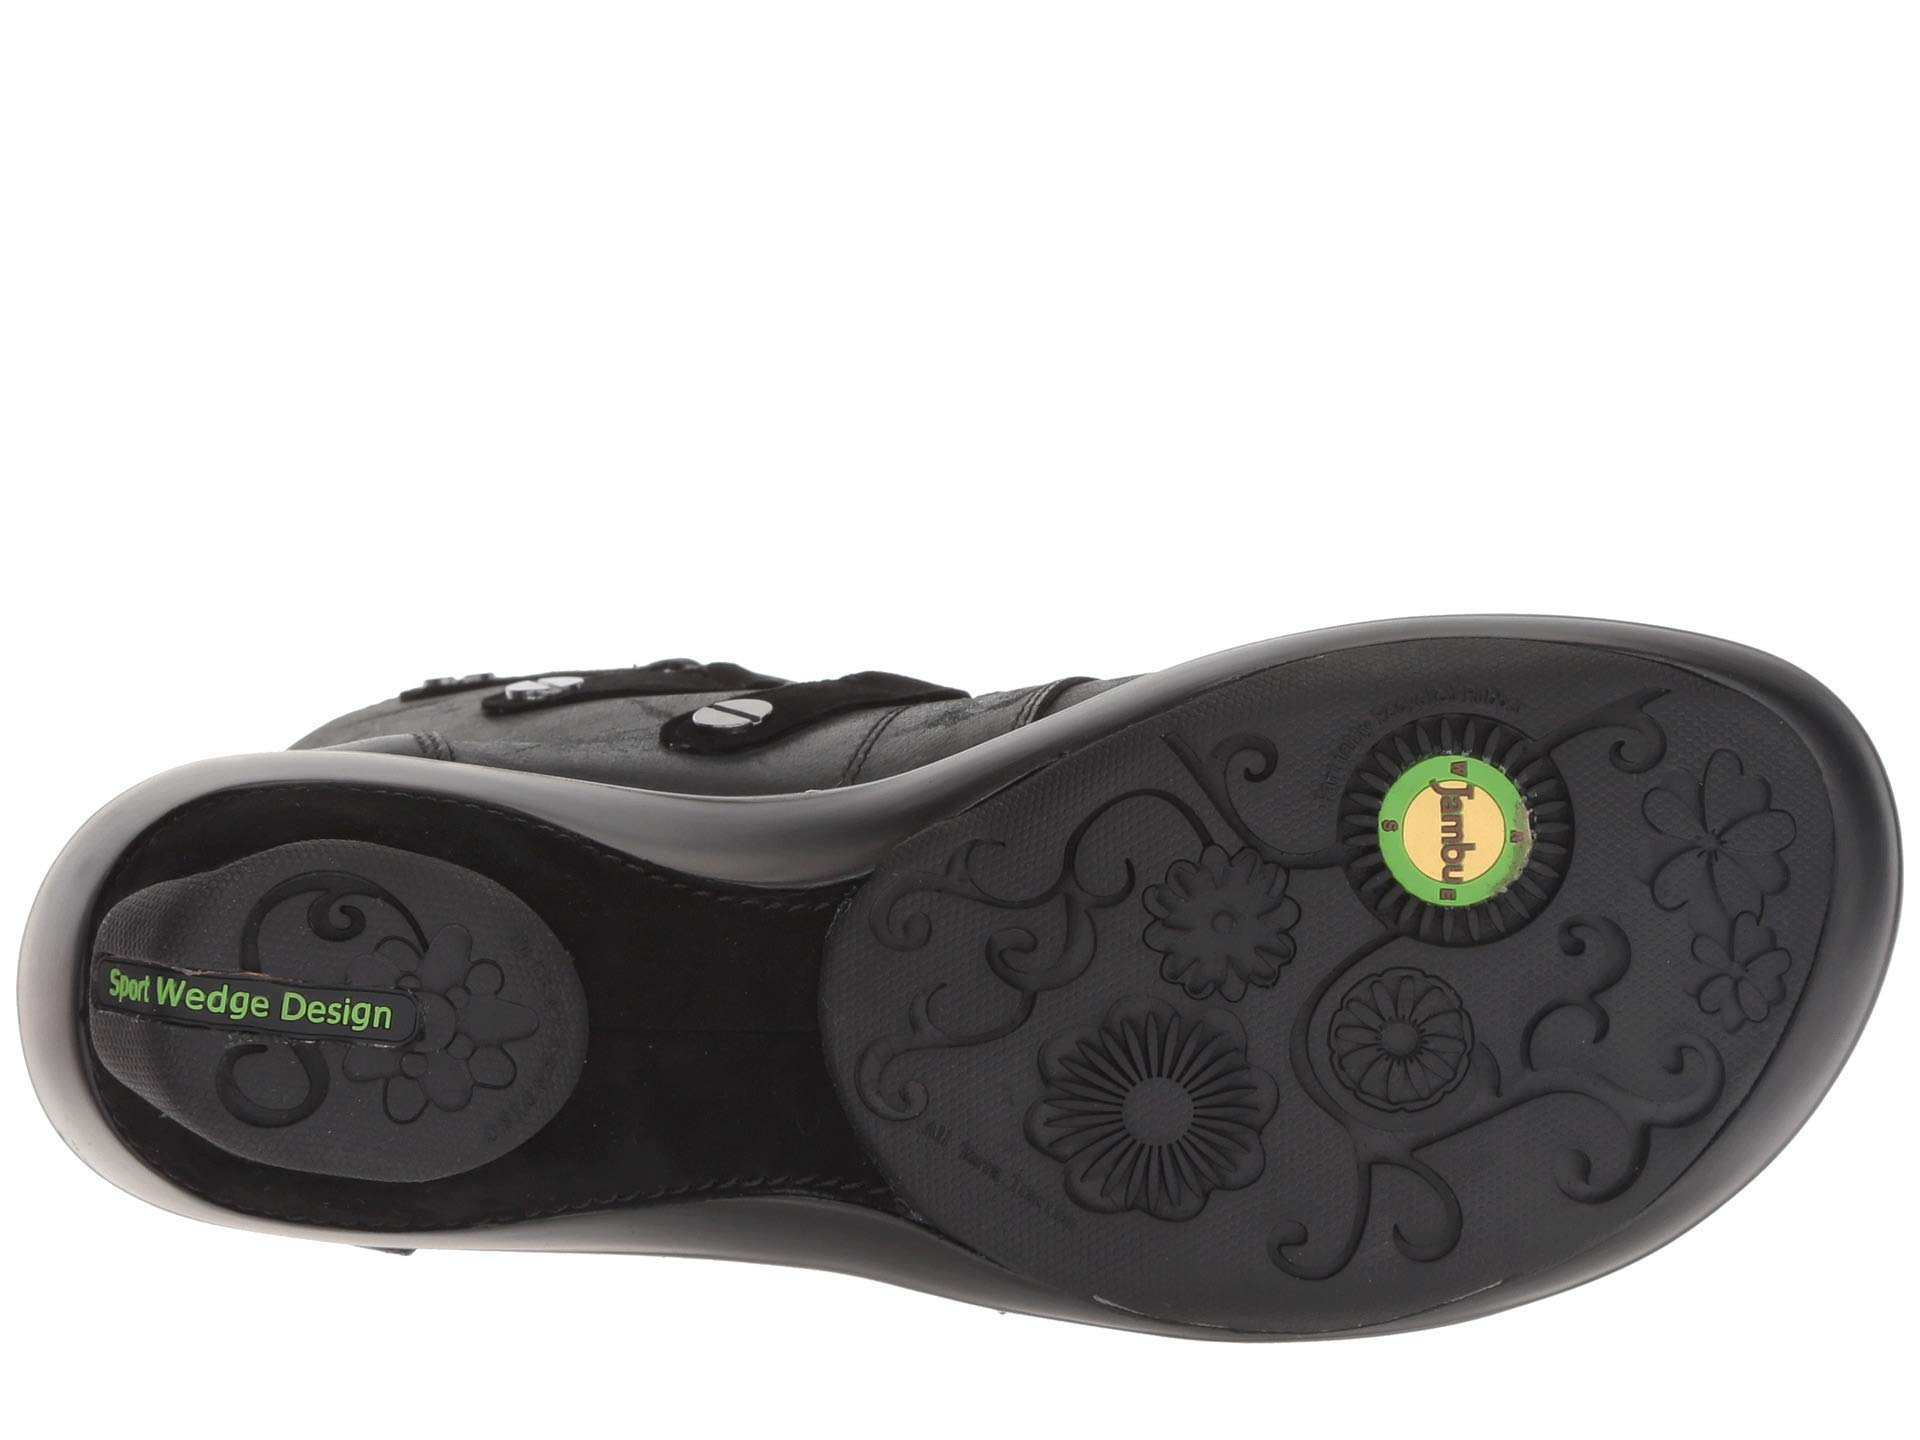circle: (98, 923, 528, 1106), (1342, 691, 1577, 954), (1037, 997, 1271, 1236), (1603, 734, 1819, 945), (1327, 967, 1486, 1119)
star: (1342, 691, 1577, 954), (1037, 997, 1271, 1236), (1603, 734, 1819, 945), (1327, 967, 1486, 1119)
text: (98, 923, 528, 1106), (194, 968, 289, 1054), (103, 948, 192, 1035), (295, 977, 395, 1051)
